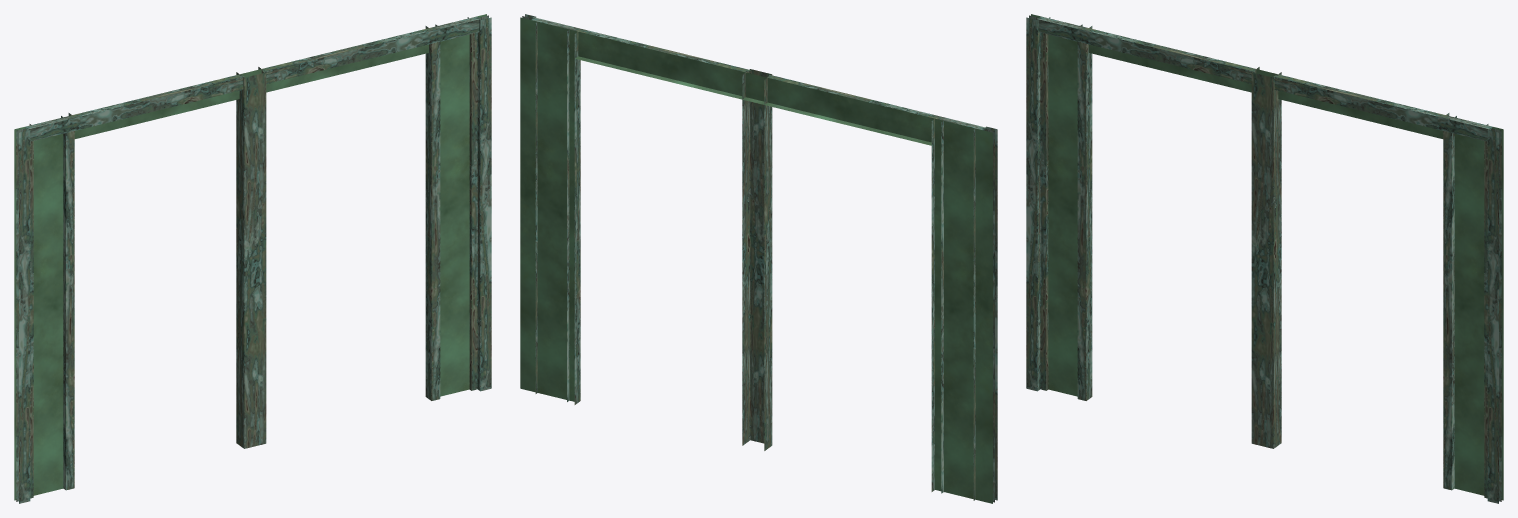
The model's file is DoubleDoor_Frame.FBX.
3 renders of one model, left to right at view 1: azimuth 30°, elevation 25°; view 2: azimuth 150°, elevation 25°; view 3: azimuth 330°, elevation 25°, orthographic.
Parts seen in each view (by area): view 1: Object028; view 2: Object028; view 3: Object028.
Part boxes in pixels (x1,y1,x2,y2): Object028: (14,14,491,503); Object028: (520,14,997,503); Object028: (1026,14,1503,503).
Size of the model in its own units: 400 by 300 by 11.83.
